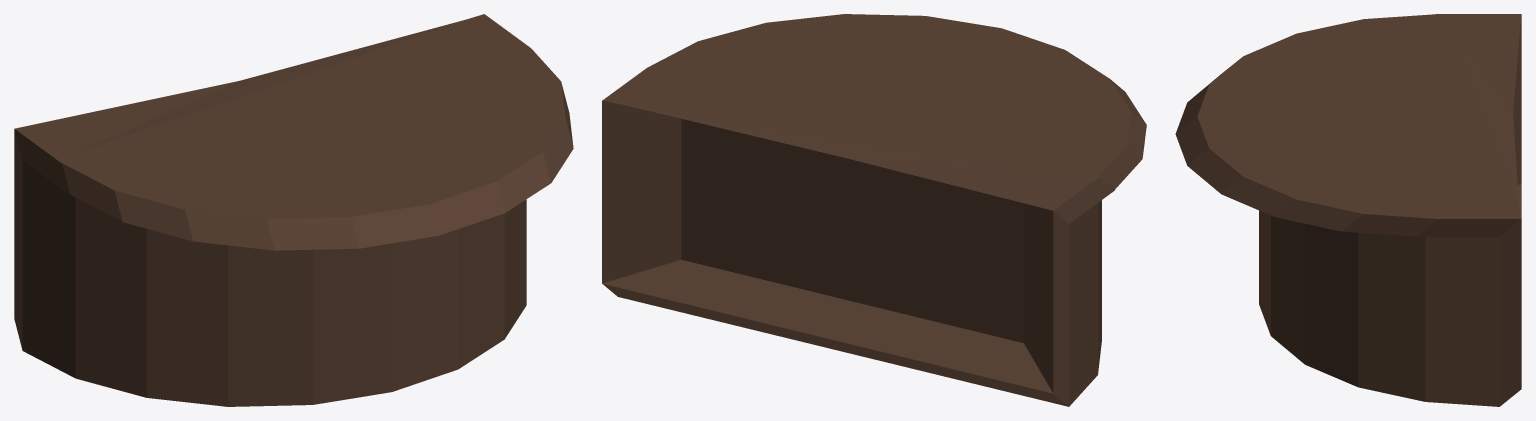
The model's file is RoundCounter.fbx.
3 views of the same model, side by side, from view 1: azimuth 30°, elevation 25°; view 2: azimuth 150°, elevation 25°; view 3: azimuth 270°, elevation 25° (orthographic). The views are drawn at different scales.
Parts seen in each view (by area): view 1: roundcounter:pCylinder2; view 2: roundcounter:pCylinder2; view 3: roundcounter:pCylinder2.
Part boxes in pixels (x1,y1,x2,y2): roundcounter:pCylinder2: (14, 14, 573, 406); roundcounter:pCylinder2: (602, 14, 1146, 406); roundcounter:pCylinder2: (1175, 14, 1521, 406).
Bounding box in the file's own units: 2.02 × 0.8632 × 1.43.
